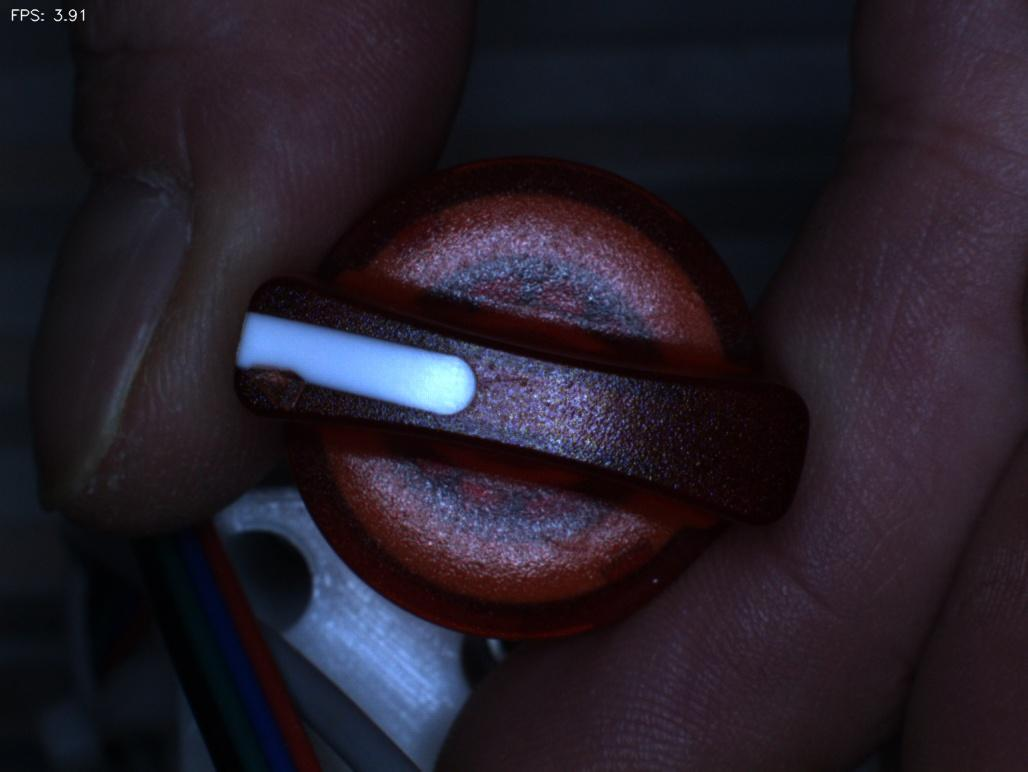Choc: (233, 342, 327, 434)
